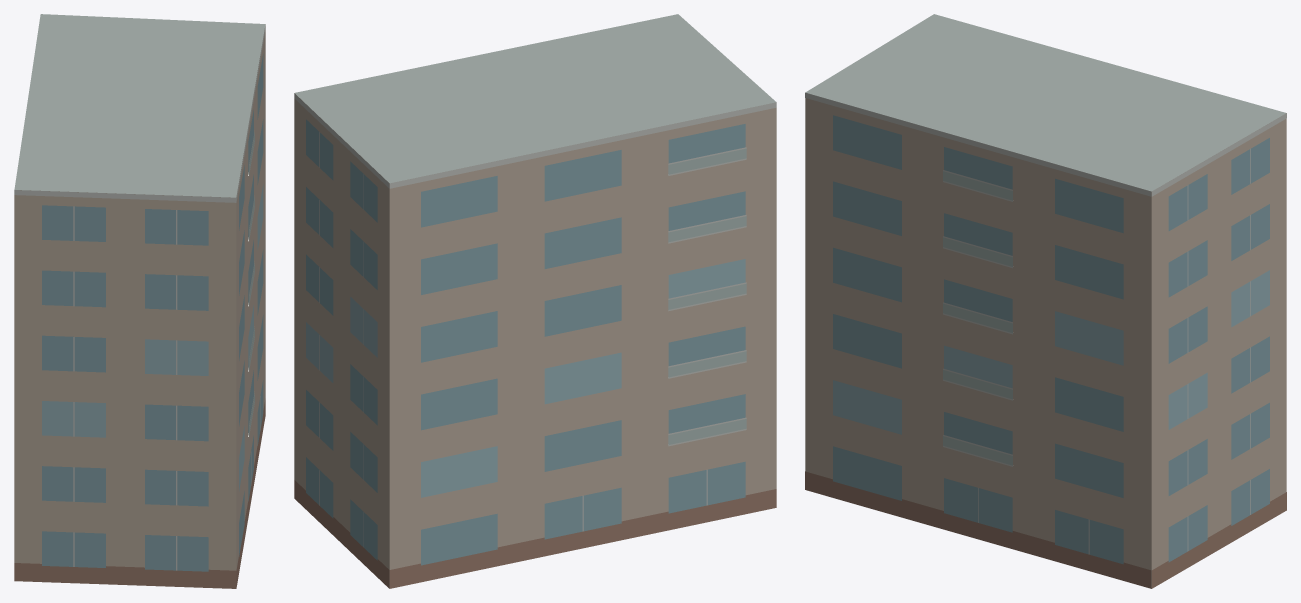
Rendered from survey-upis-32658252.glb.
3 views of the same model, side by side, from view 1: azimuth 30°, elevation 25°; view 2: azimuth 150°, elevation 25°; view 3: azimuth 270°, elevation 25° (orthographic). The views are drawn at different scales.
Parts seen in each view (by area): view 1: survey-upis-32658252.tmp; view 2: survey-upis-32658252.tmp; view 3: survey-upis-32658252.tmp.
Part boxes in pixels (<box>): survey-upis-32658252.tmp: <box>14,14,265,588</box>; survey-upis-32658252.tmp: <box>294,14,776,588</box>; survey-upis-32658252.tmp: <box>805,14,1286,588</box>.
Bounding box in the file's own units: 17.55 × 18.3 × 20.11.
